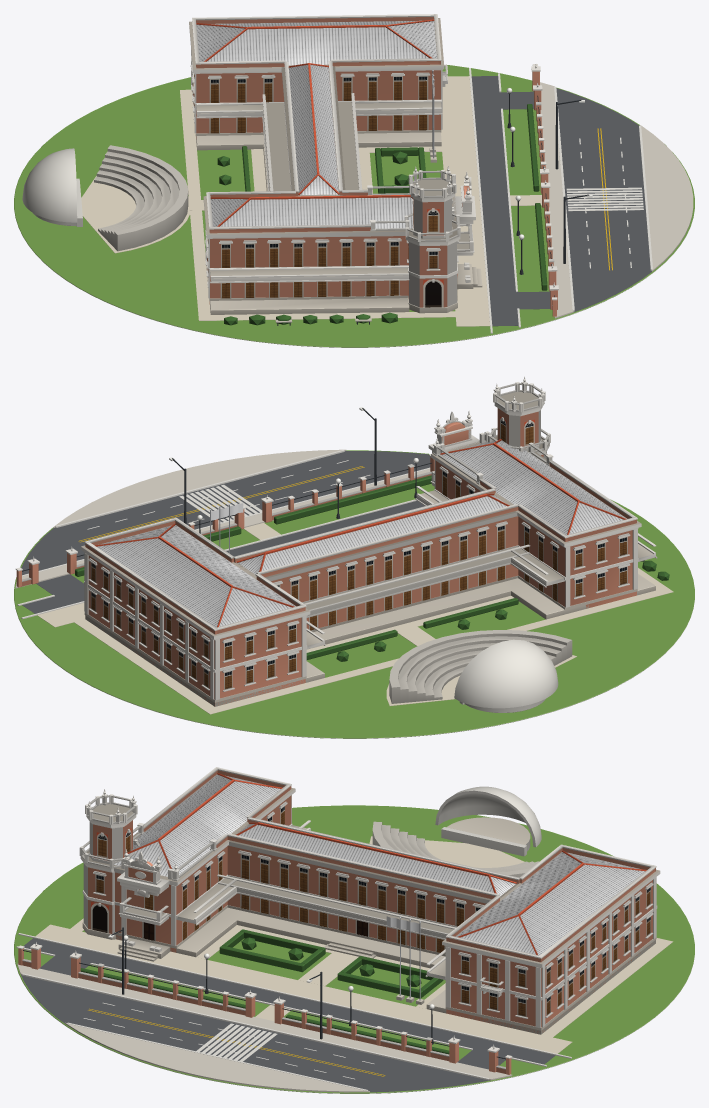
File: reitoriaUfc-pecas.glb
3 renders of one model, top to bottom at view 1: azimuth 30°, elevation 25°; view 2: azimuth 150°, elevation 25°; view 3: azimuth 270°, elevation 25°, orthographic.
Parts seen in each view (by area): view 1: Predio_Alas, Chao_Pisos, Chao_Base, Concha_Acustica, Palacete_Torreao, Jardins_Gradil; view 2: Predio_Alas, Chao_Base, Chao_Pisos, Concha_Acustica, Jardins_Gradil, Palacete_Torreao; view 3: Predio_Alas, Chao_Pisos, Chao_Base, Jardins_Gradil, Palacete_Torreao, Concha_Acustica.
Boxes of the visible parts, x1=… form: Predio_Alas: x1=189, y1=14, x2=456, y2=314; Chao_Pisos: x1=81, y1=68, x2=693, y2=333; Chao_Base: x1=14, y1=64, x2=694, y2=347; Concha_Acustica: x1=22, y1=145, x2=188, y2=251; Palacete_Torreao: x1=367, y1=166, x2=482, y2=313; Jardins_Gradil: x1=217, y1=64, x2=592, y2=325; Predio_Alas: x1=80, y1=437, x2=657, y2=706; Chao_Base: x1=14, y1=450, x2=694, y2=738; Chao_Pisos: x1=15, y1=449, x2=673, y2=714; Concha_Acustica: x1=389, y1=630, x2=572, y2=712; Jardins_Gradil: x1=15, y1=407, x2=669, y2=661; Palacete_Torreao: x1=428, y1=376, x2=553, y2=488; Predio_Alas: x1=99, y1=767, x2=660, y2=1034; Chao_Pisos: x1=16, y1=836, x2=673, y2=1092; Chao_Base: x1=14, y1=805, x2=694, y2=1093; Jardins_Gradil: x1=17, y1=916, x2=512, y2=1074; Palacete_Torreao: x1=79, y1=789, x2=217, y2=961; Concha_Acustica: x1=372, y1=786, x2=541, y2=877.
Bounding box in the file's own units: 66.77 × 14.3 × 66.77.
19 materials, 2 textured.
